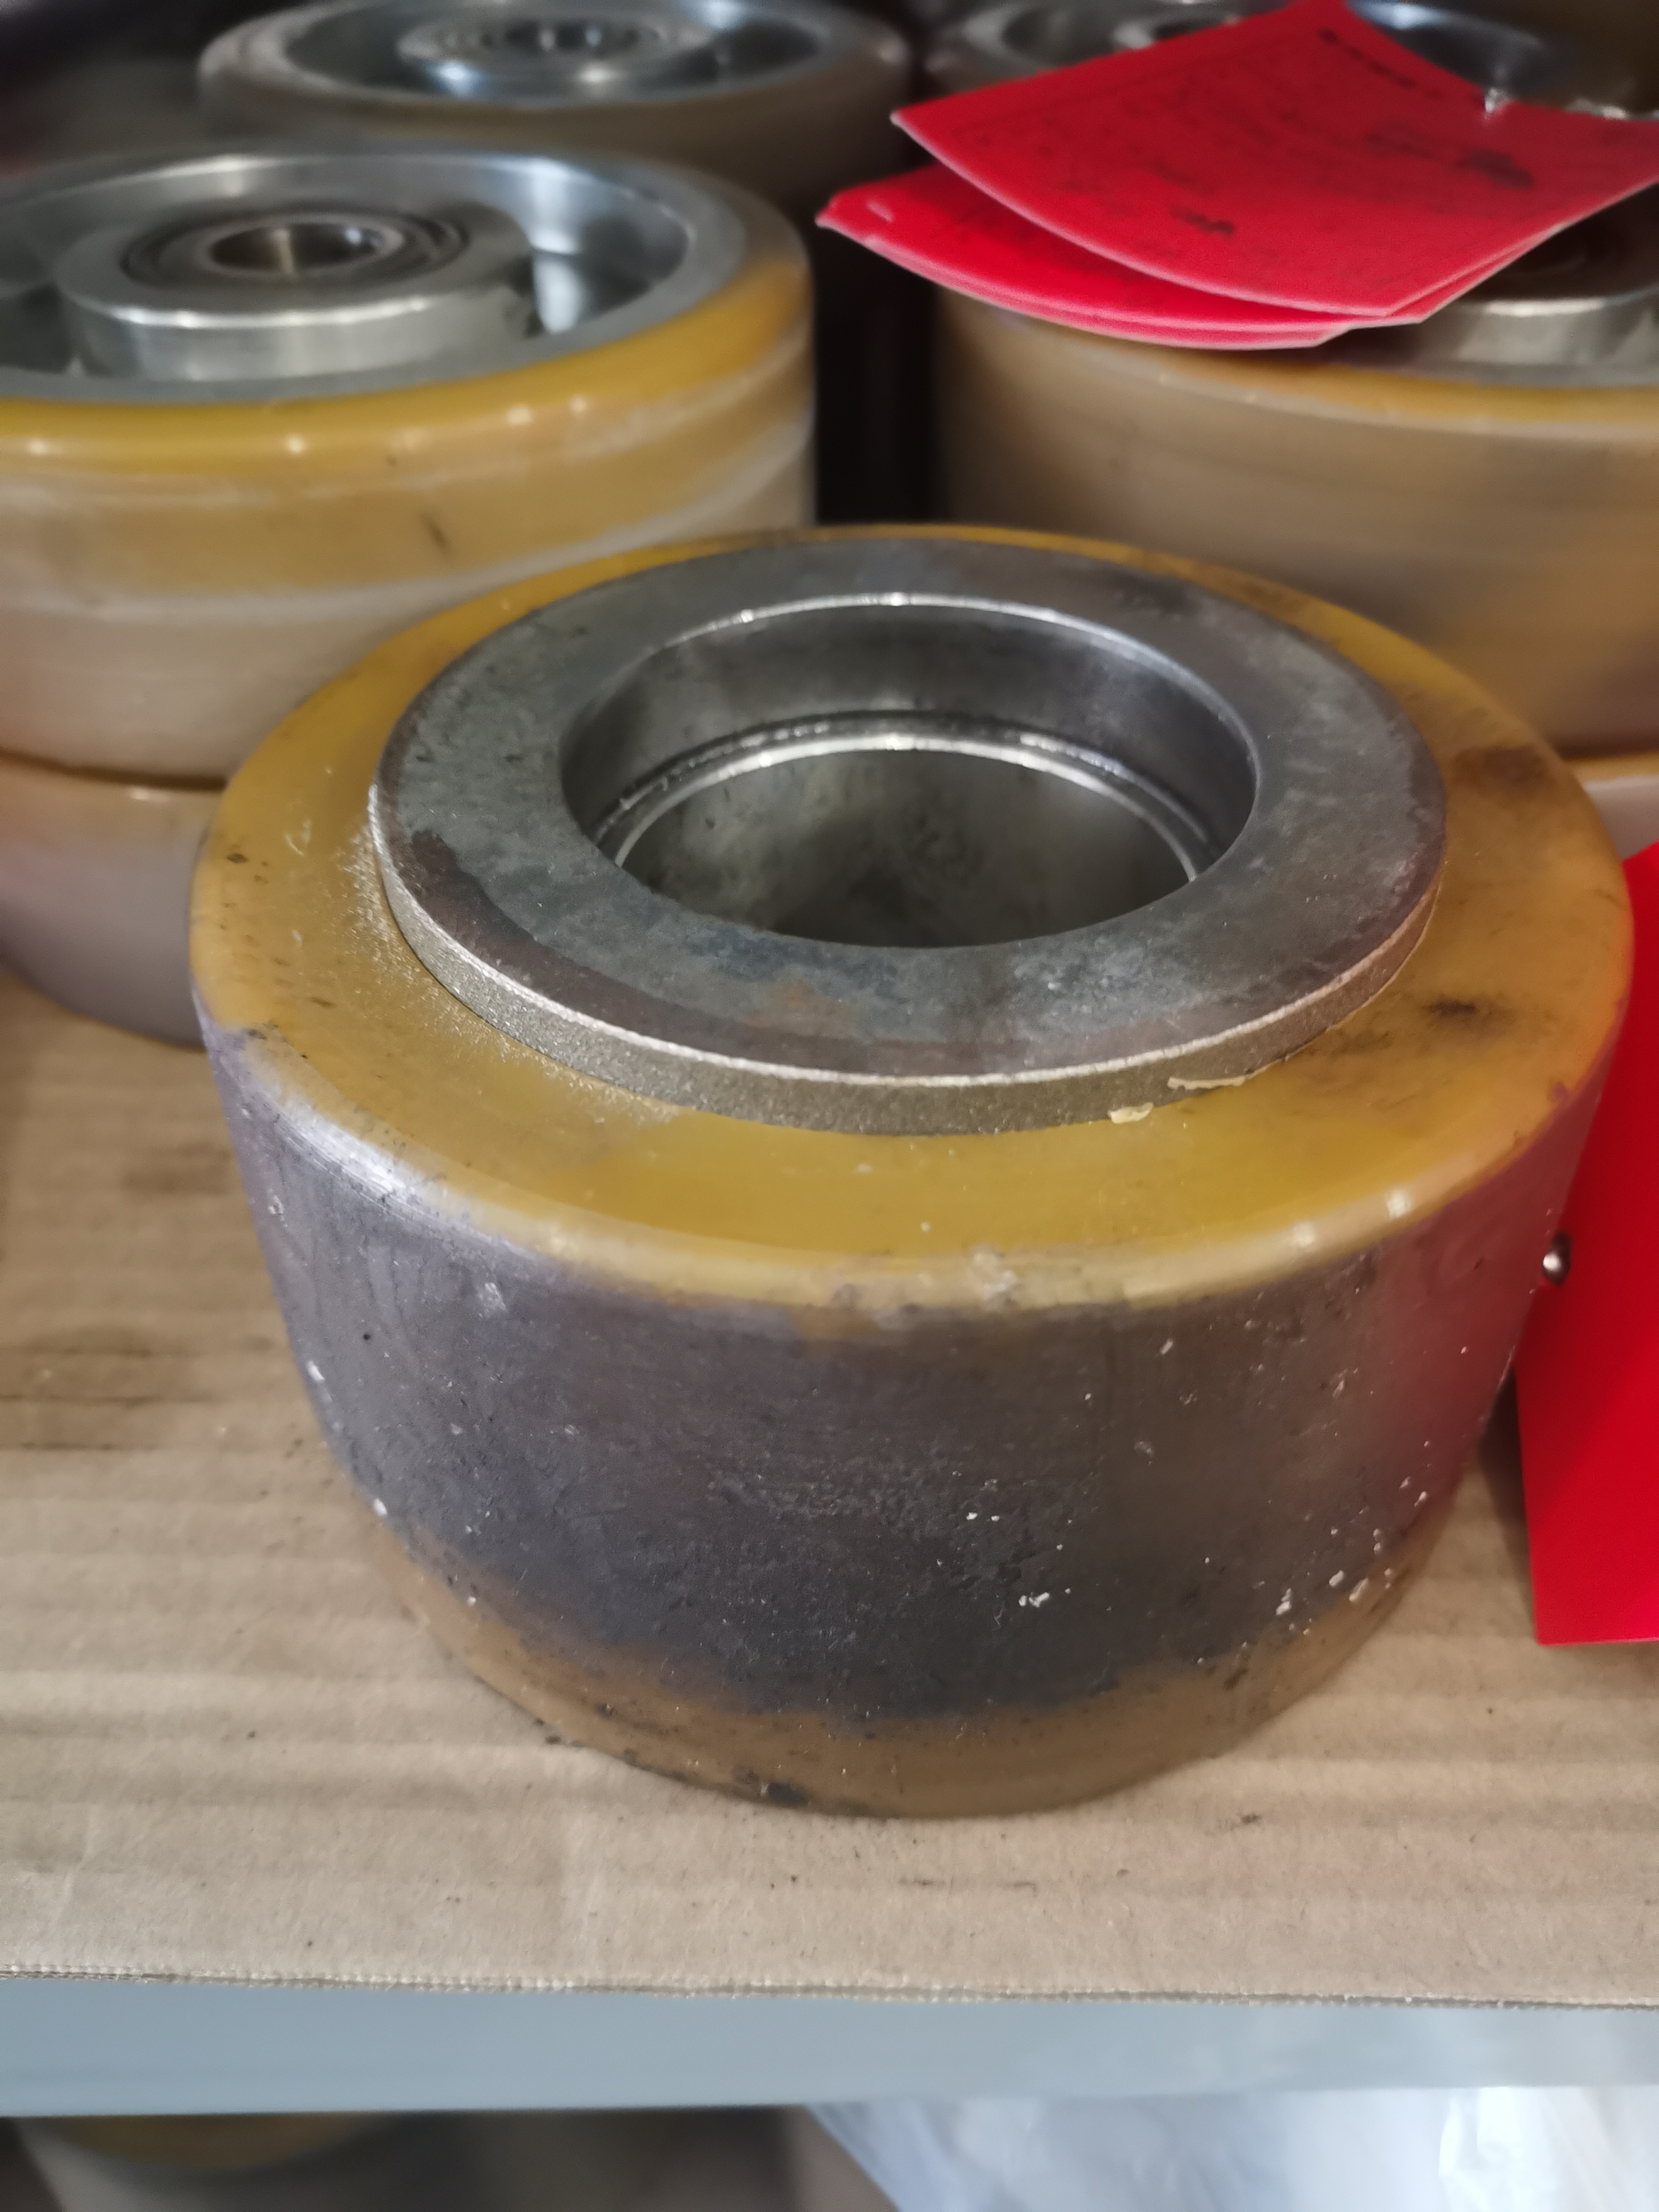bad_wheel: (640, 1007, 1206, 1174), (321, 815, 573, 1057)
